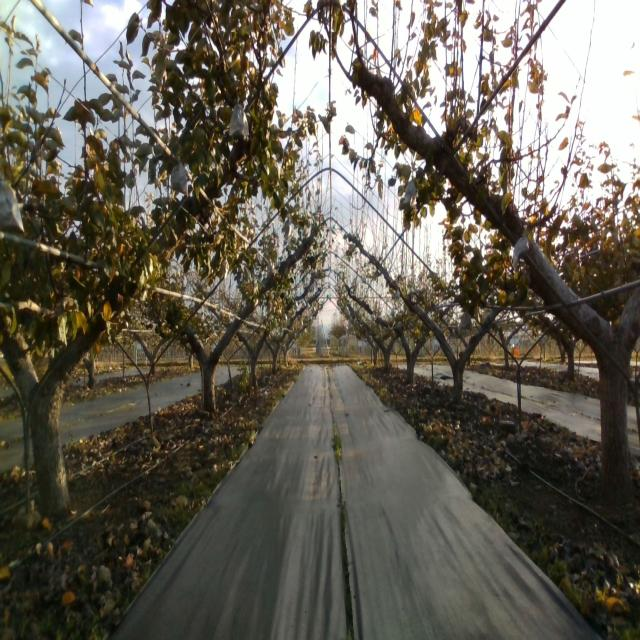pearbags: (0, 170, 24, 234), (170, 152, 189, 198), (229, 96, 249, 137), (512, 228, 530, 267), (403, 176, 417, 206), (459, 306, 473, 332)
